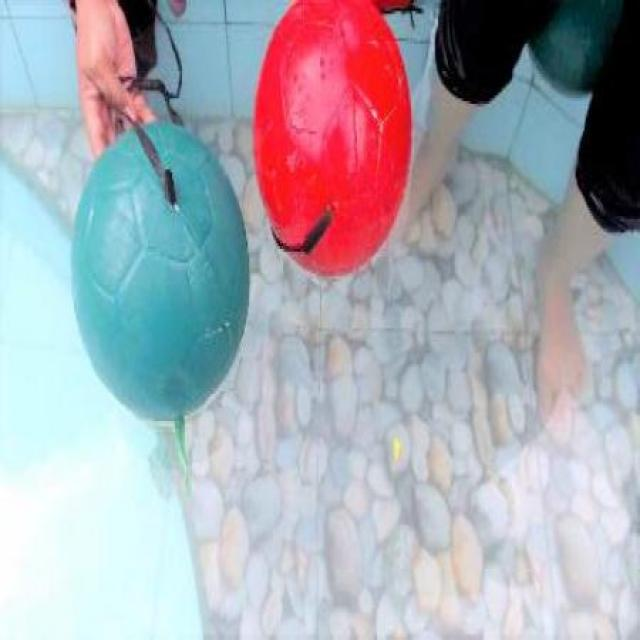buoy: (69, 120, 251, 422), (252, 1, 412, 278)
